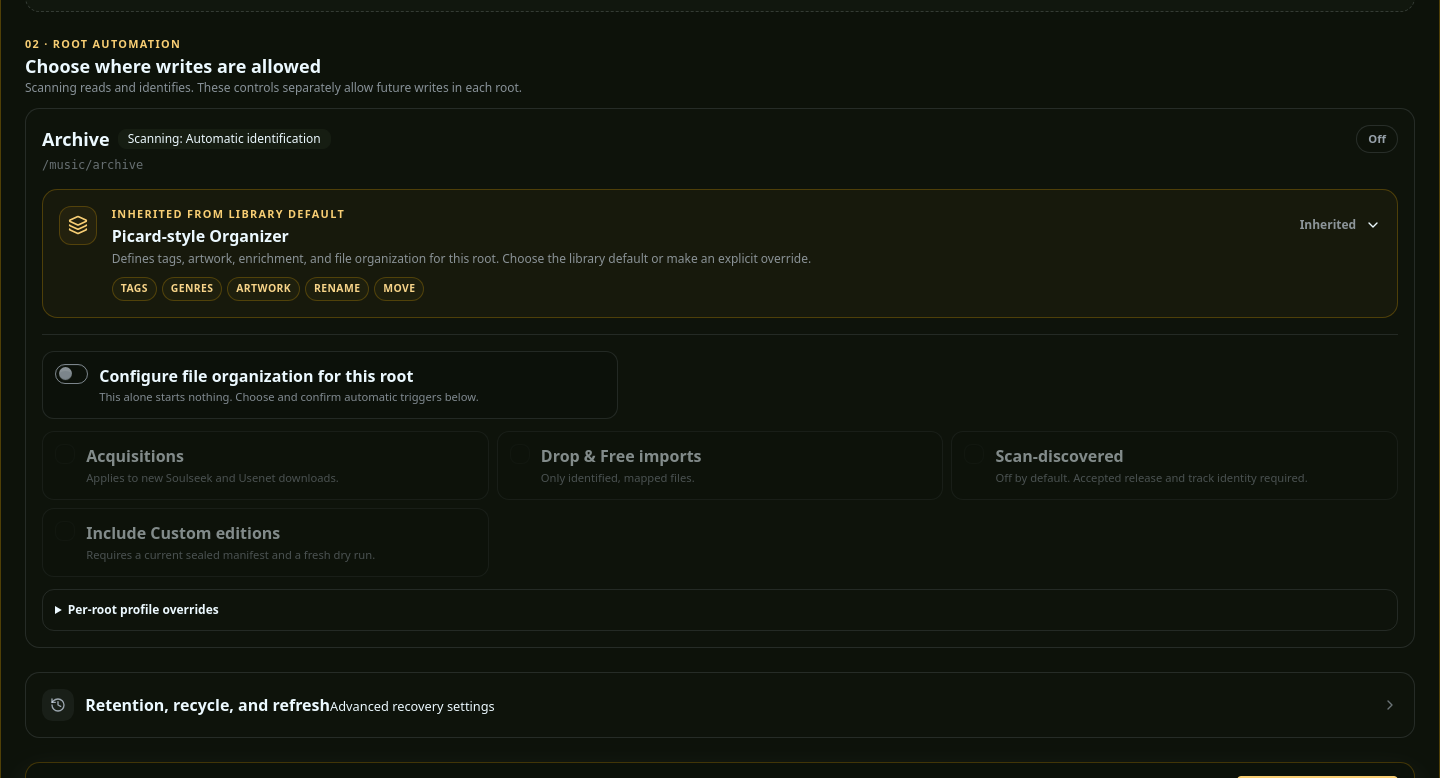
Test: SettingsLibraryManagement › surfaces a server-side activation dry run instead of an inert save action
(page scrolled)
Click the checkbox labelled "Configure file organization" at (72, 374), box [55,364,88,384]
(page scrolled)
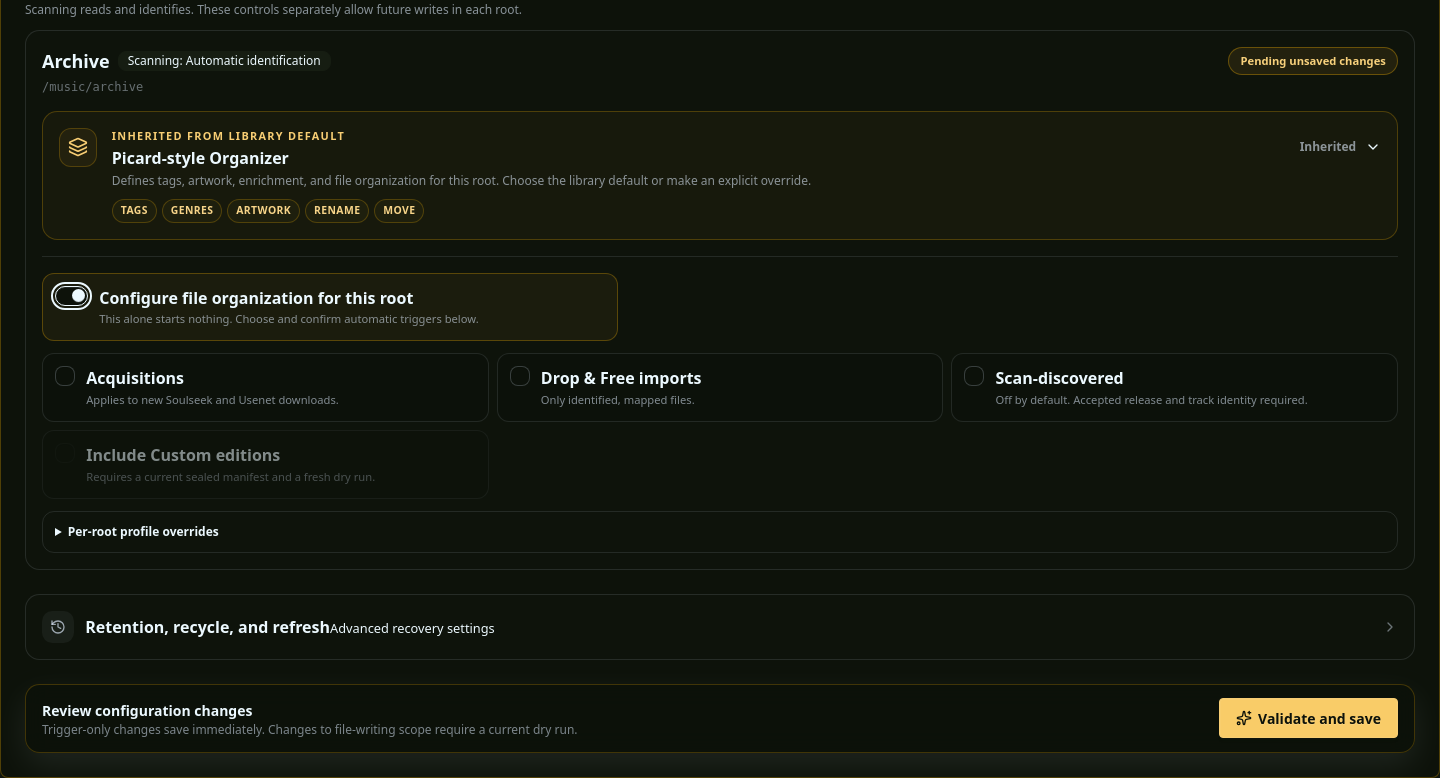
Result: the button "Validate and save" is shown at [1219,698,1398,738]
